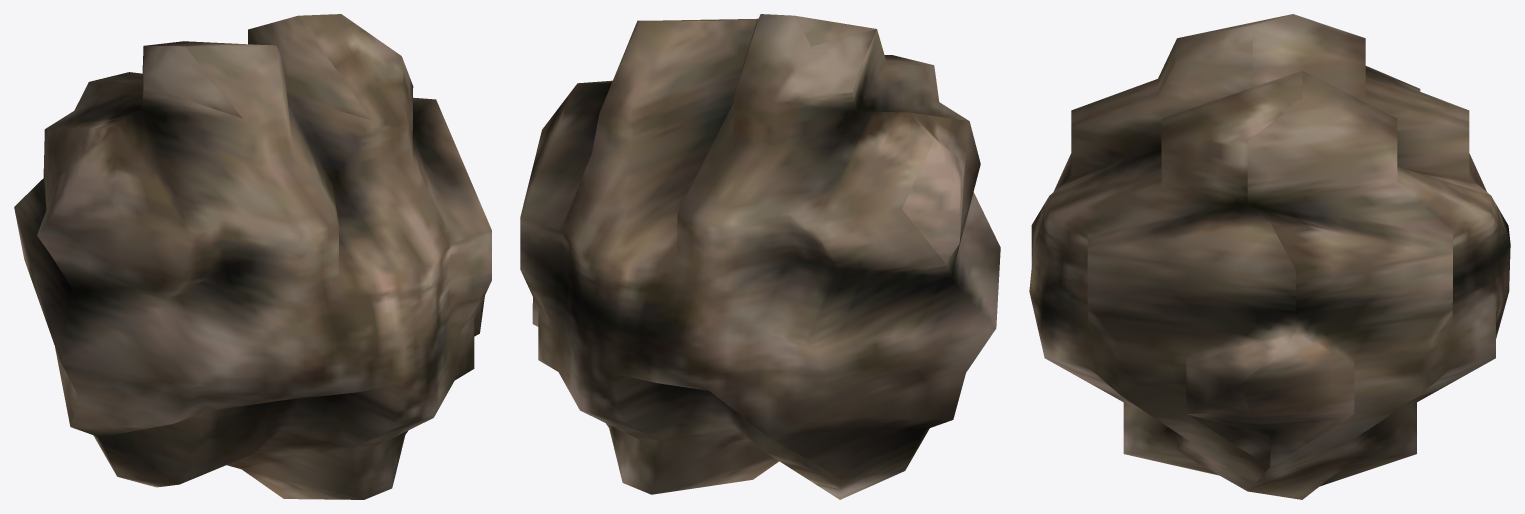
Rendered from BOULDER_HILL_05.fbx.
The picture shows the model from 3 angles, left to right: view 1: azimuth 30°, elevation 25°; view 2: azimuth 150°, elevation 25°; view 3: azimuth 270°, elevation 25°; orthographic projection. The views are drawn at different scales.
Visible parts, largest first — view 1: BOULDER_HILL_05; view 2: BOULDER_HILL_05; view 3: BOULDER_HILL_05.
Boxes of the visible parts, x1,y1,x2,y2 form: BOULDER_HILL_05: (14,14,491,499); BOULDER_HILL_05: (520,14,1000,499); BOULDER_HILL_05: (1029,14,1510,499).
Size of the model in its own units: 22287 by 22663 by 22558.
1 material, 1 textured.
